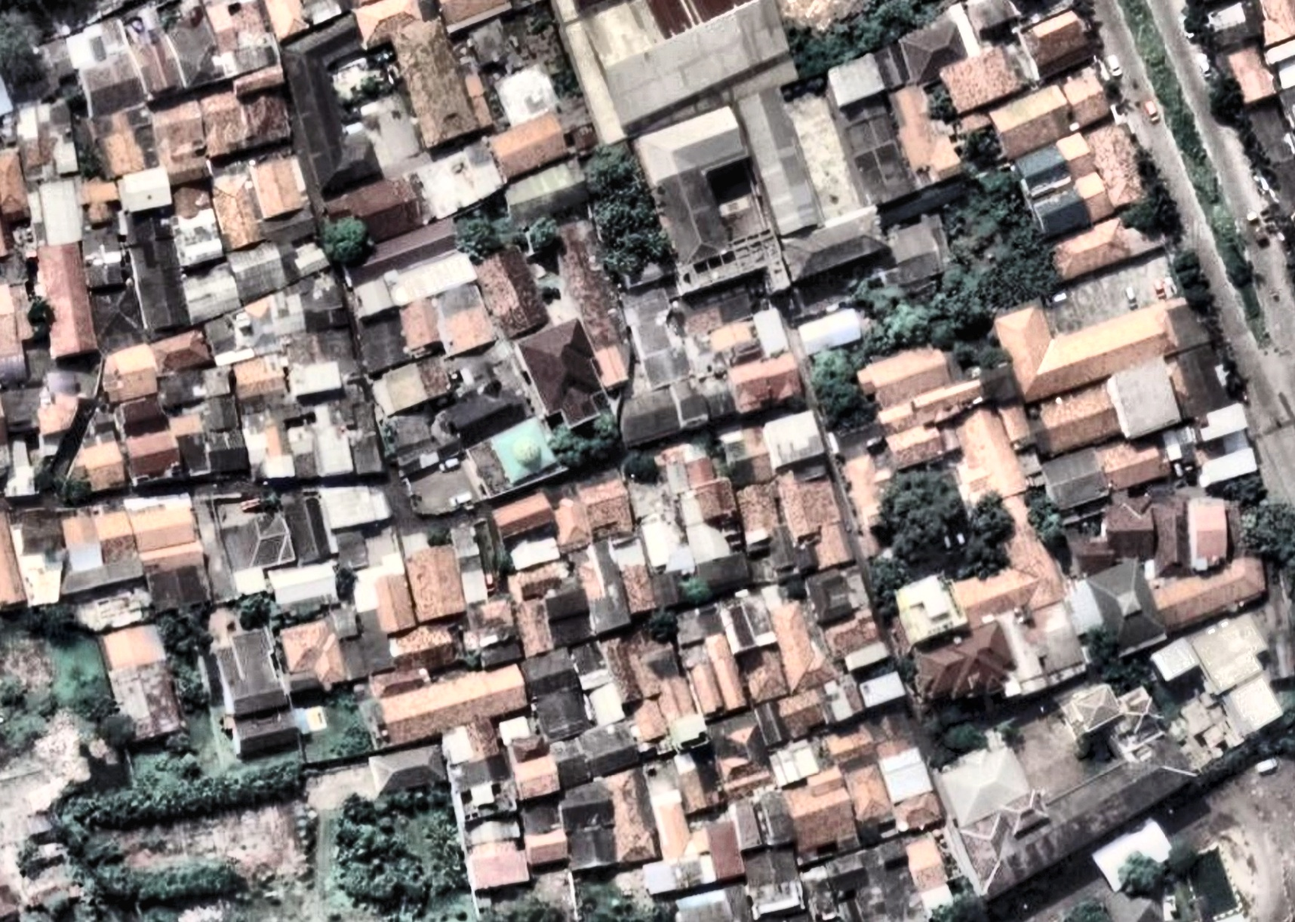building: (955, 729, 1200, 907), (550, 0, 802, 147), (630, 103, 793, 318), (991, 259, 1201, 409), (596, 0, 798, 135), (278, 16, 381, 206), (542, 216, 649, 393), (821, 706, 948, 852), (945, 787, 1074, 904), (731, 82, 827, 238), (373, 658, 532, 750), (253, 384, 385, 493), (610, 354, 753, 452), (384, 12, 484, 151), (512, 315, 617, 437), (1058, 556, 1170, 669), (904, 618, 1025, 721), (982, 593, 1092, 703), (430, 336, 540, 446), (122, 489, 218, 615), (923, 729, 1037, 834), (10, 99, 90, 247), (96, 619, 187, 747), (633, 103, 751, 193), (985, 492, 1072, 613), (1149, 552, 1274, 635), (461, 413, 565, 506), (209, 282, 317, 370), (1047, 205, 1164, 286), (943, 401, 1029, 510), (120, 206, 191, 337), (820, 836, 928, 922), (322, 170, 429, 256), (773, 463, 854, 576), (886, 77, 965, 189), (205, 625, 292, 726), (468, 241, 553, 344), (342, 216, 464, 287), (778, 207, 889, 284), (614, 285, 693, 393), (777, 766, 864, 861), (411, 138, 508, 223), (854, 337, 957, 416), (33, 239, 99, 362), (166, 392, 251, 486), (1027, 382, 1125, 462), (986, 80, 1081, 162), (1189, 609, 1277, 697), (446, 752, 525, 850), (877, 374, 990, 442), (375, 398, 464, 482), (949, 552, 1046, 629), (1104, 356, 1186, 443), (887, 11, 975, 92), (499, 156, 594, 231), (601, 623, 683, 709), (1090, 814, 1178, 894), (938, 41, 1027, 120), (7, 505, 73, 609), (570, 537, 637, 638), (1093, 685, 1174, 768), (486, 109, 574, 184), (889, 569, 969, 648), (203, 0, 282, 80), (557, 778, 623, 873), (1019, 4, 1100, 81), (1084, 119, 1151, 212), (766, 596, 829, 693), (837, 447, 906, 534), (276, 617, 350, 698), (161, 2, 228, 91), (337, 539, 411, 619), (121, 10, 186, 101), (369, 352, 457, 419), (1163, 341, 1234, 424), (149, 99, 214, 188), (725, 349, 807, 417), (402, 542, 469, 625), (605, 767, 661, 866), (444, 375, 529, 440), (74, 47, 148, 121), (384, 249, 478, 307), (899, 831, 962, 917), (726, 785, 799, 859), (309, 127, 385, 198), (283, 325, 361, 394), (1053, 674, 1128, 745), (206, 168, 268, 253), (740, 844, 807, 922), (1038, 445, 1112, 515), (1096, 430, 1173, 496), (488, 416, 559, 487), (885, 213, 951, 289), (612, 384, 686, 451), (606, 533, 663, 619), (278, 487, 338, 568), (85, 280, 149, 355), (492, 60, 562, 128), (71, 585, 156, 640), (802, 562, 872, 628), (334, 609, 396, 683), (405, 462, 480, 523), (176, 260, 245, 326), (226, 238, 293, 305), (368, 742, 449, 797), (705, 709, 771, 776), (576, 716, 644, 781), (737, 350, 806, 414), (248, 152, 311, 222), (576, 474, 640, 542), (539, 575, 597, 649), (844, 761, 899, 839), (232, 508, 297, 574), (96, 342, 163, 406), (759, 408, 827, 471), (127, 498, 200, 555), (702, 630, 751, 714), (57, 555, 146, 601), (1174, 691, 1236, 757), (717, 422, 776, 491), (229, 707, 303, 762), (1224, 673, 1287, 737), (717, 590, 778, 656), (1030, 184, 1095, 245), (795, 305, 867, 360), (93, 109, 148, 180), (822, 52, 888, 111), (465, 837, 532, 895), (1224, 42, 1281, 110), (1060, 518, 1121, 581), (319, 480, 392, 532), (531, 684, 593, 745), (1058, 66, 1116, 131), (293, 270, 351, 335), (27, 383, 85, 448), (168, 207, 226, 271), (437, 715, 504, 770), (490, 489, 558, 543), (1013, 141, 1075, 200), (672, 749, 725, 818), (464, 17, 521, 81), (200, 89, 252, 159), (354, 0, 429, 48), (681, 291, 754, 340), (268, 561, 339, 611), (70, 438, 130, 497), (235, 89, 293, 150), (733, 480, 785, 548), (460, 595, 522, 652), (149, 326, 214, 380), (883, 420, 949, 473), (437, 302, 499, 358), (389, 624, 458, 674), (36, 177, 86, 246), (877, 745, 934, 805), (737, 645, 792, 707), (681, 646, 727, 720), (821, 608, 884, 662), (369, 570, 419, 638), (1149, 494, 1190, 576), (1187, 496, 1231, 572), (960, 0, 1028, 49), (124, 427, 183, 483), (705, 316, 766, 370), (1203, 0, 1265, 53), (692, 549, 755, 601), (774, 686, 832, 741), (520, 646, 580, 699), (1103, 501, 1156, 560), (115, 165, 174, 217), (702, 817, 747, 885), (0, 498, 27, 611), (1194, 445, 1261, 490), (230, 351, 291, 400), (259, 205, 321, 253), (641, 853, 706, 898), (767, 737, 823, 789), (396, 297, 445, 356), (638, 509, 685, 570), (511, 596, 556, 659), (0, 284, 28, 385), (509, 752, 563, 804), (1148, 635, 1203, 686), (719, 753, 775, 803), (91, 505, 139, 563), (33, 35, 80, 94), (512, 558, 573, 603), (891, 789, 947, 838), (653, 798, 695, 862), (82, 236, 129, 293), (651, 672, 700, 726), (669, 601, 724, 649), (61, 22, 112, 73), (691, 475, 741, 527), (156, 367, 212, 412), (1193, 401, 1250, 444), (540, 576, 591, 624), (438, 0, 512, 33), (670, 376, 713, 432), (683, 517, 732, 566), (626, 696, 672, 748), (569, 638, 614, 691), (506, 531, 562, 573), (0, 385, 47, 435), (1055, 130, 1100, 182), (115, 393, 168, 437), (1074, 170, 1117, 224), (230, 62, 288, 102), (79, 175, 123, 227), (553, 496, 593, 552), (550, 737, 593, 789), (762, 525, 803, 579), (522, 827, 572, 871), (751, 306, 792, 359), (473, 634, 526, 675), (857, 669, 908, 711), (0, 148, 28, 223), (264, 0, 311, 44), (584, 680, 627, 728), (820, 676, 859, 725), (956, 823, 994, 873), (58, 510, 100, 555), (4, 440, 36, 497), (1115, 684, 1158, 725), (1259, 0, 1295, 48), (841, 640, 891, 674), (681, 450, 720, 490), (206, 0, 236, 52), (289, 370, 335, 403), (335, 529, 370, 571), (172, 184, 212, 220), (651, 569, 685, 609), (50, 134, 80, 177), (15, 104, 49, 141), (496, 714, 533, 747), (232, 566, 268, 597), (303, 0, 346, 25), (0, 250, 29, 286), (1263, 38, 1295, 67), (1278, 60, 1295, 89), (72, 559, 102, 572)
tree: (68, 759, 305, 835), (862, 455, 977, 567), (26, 798, 138, 908), (853, 294, 938, 367), (911, 697, 991, 772), (924, 266, 1002, 341), (806, 346, 873, 431), (956, 492, 1015, 587), (125, 858, 238, 907), (151, 600, 219, 666), (447, 204, 511, 267), (1012, 484, 1074, 548), (586, 181, 652, 240), (576, 141, 636, 203), (857, 551, 917, 613), (975, 260, 1037, 319), (0, 680, 52, 749), (335, 858, 401, 906), (1166, 247, 1217, 309), (538, 422, 595, 477), (1115, 852, 1172, 907), (167, 653, 215, 718), (1193, 741, 1256, 789), (332, 817, 399, 862), (1247, 502, 1292, 565), (1, 12, 42, 81), (390, 843, 431, 911), (840, 6, 892, 58), (66, 667, 116, 721), (329, 718, 379, 770), (598, 233, 648, 282), (789, 34, 836, 85), (1166, 110, 1209, 165), (319, 218, 368, 266), (1222, 467, 1270, 516), (1119, 194, 1168, 242), (844, 275, 901, 316), (954, 124, 1001, 172), (430, 843, 477, 890), (6, 840, 53, 885), (618, 447, 665, 492), (1019, 252, 1063, 300), (19, 604, 74, 642), (418, 813, 464, 858), (639, 604, 685, 648), (1160, 834, 1204, 879), (630, 220, 675, 263), (1099, 660, 1154, 695), (928, 890, 990, 921), (520, 212, 564, 255), (1242, 722, 1286, 765), (1223, 255, 1268, 297), (819, 24, 861, 68), (1082, 626, 1121, 670), (878, 1, 927, 35), (1147, 683, 1183, 728), (677, 572, 717, 612), (1207, 73, 1241, 120), (979, 168, 1021, 206), (1178, 5, 1215, 47), (990, 194, 1030, 232), (95, 709, 135, 746), (325, 683, 362, 721), (339, 794, 379, 829), (546, 67, 583, 104), (920, 85, 957, 122), (988, 714, 1024, 752), (953, 341, 1004, 367), (54, 472, 89, 509), (370, 792, 426, 815), (72, 891, 112, 922), (497, 208, 527, 249), (132, 824, 167, 858), (592, 411, 619, 455), (937, 203, 970, 239), (1062, 897, 1108, 922), (877, 651, 917, 679), (171, 748, 204, 780), (689, 431, 723, 462), (533, 271, 565, 303), (1078, 732, 1109, 765), (1009, 228, 1042, 258), (328, 567, 357, 598), (237, 594, 263, 628), (27, 467, 57, 496), (522, 8, 551, 38), (57, 82, 85, 111), (928, 320, 956, 349), (42, 890, 70, 918), (781, 575, 808, 604), (424, 784, 450, 810), (491, 549, 517, 574), (29, 300, 47, 334), (163, 733, 192, 753), (425, 525, 449, 549), (79, 152, 102, 177), (378, 422, 394, 457), (1279, 691, 1294, 728), (142, 907, 175, 921), (431, 878, 452, 898), (369, 49, 389, 70), (357, 77, 376, 98), (18, 912, 50, 922), (1278, 732, 1292, 753), (265, 492, 279, 508), (295, 608, 309, 623)
